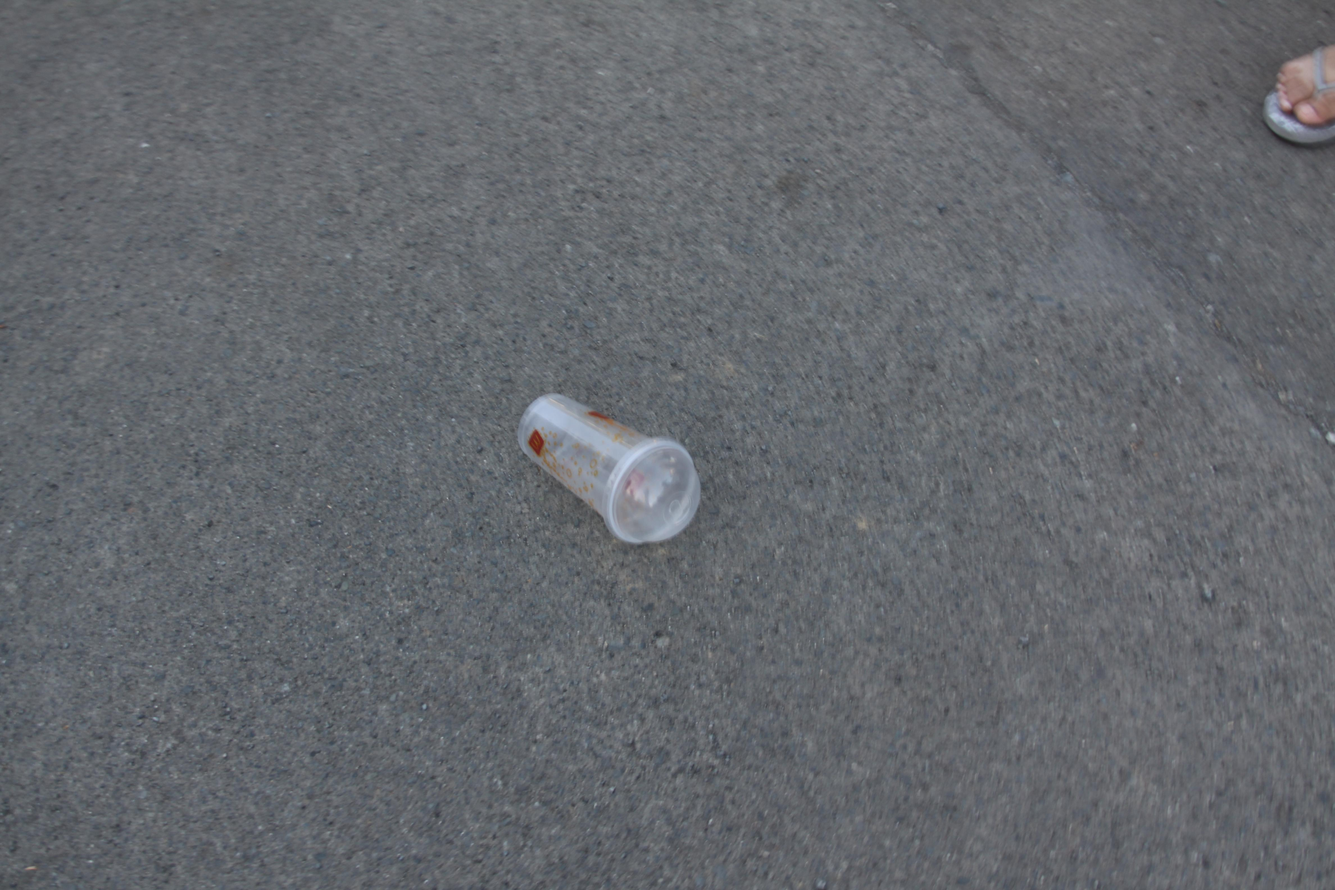Plastic: (516, 391, 702, 546)
